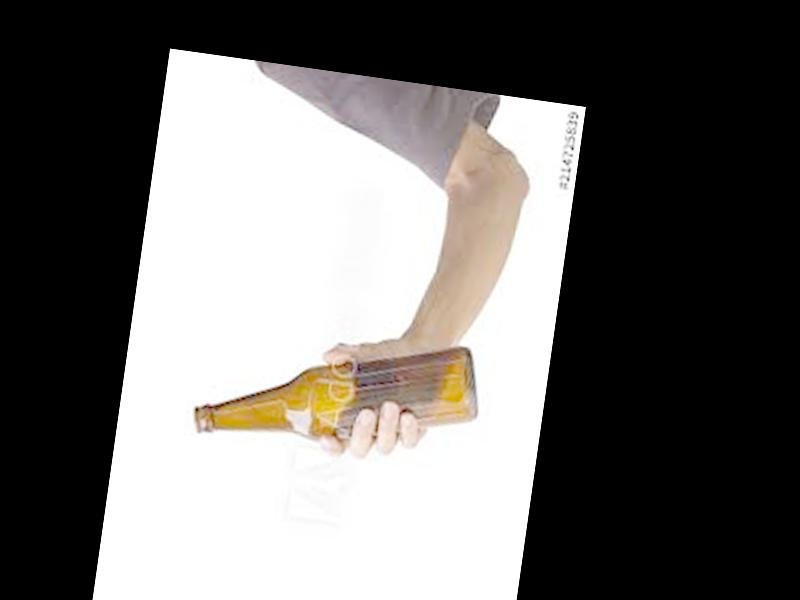Beer: (190, 310, 486, 473)
